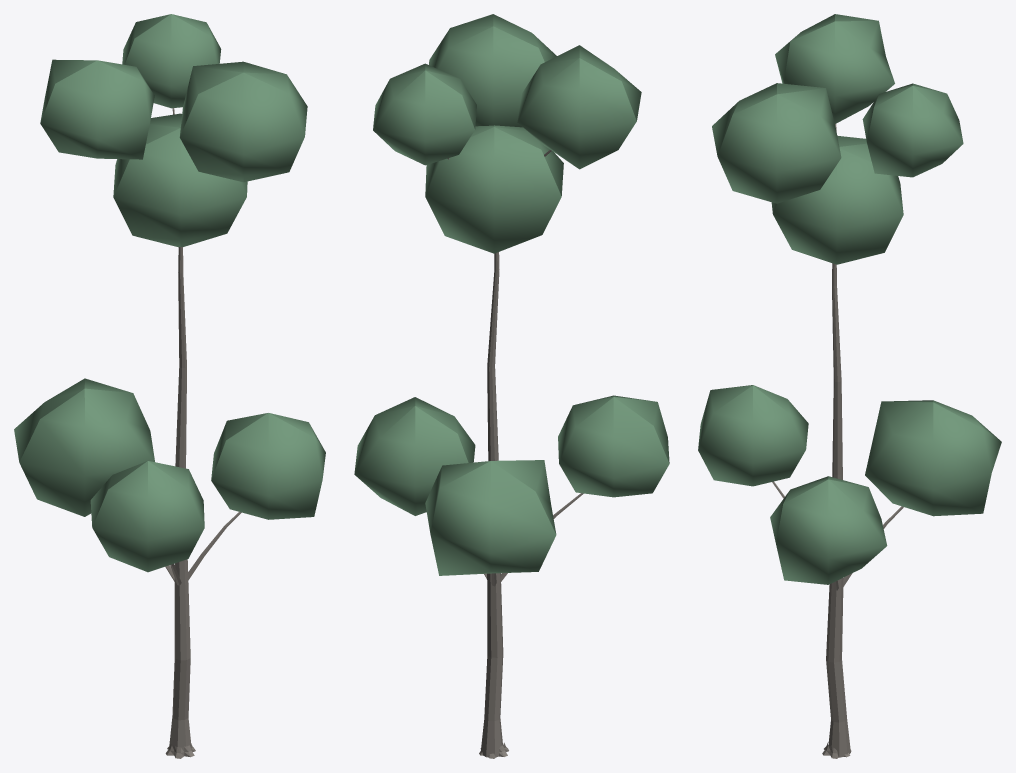
The model's file is dense-temperate-forest-flora-alder-young-d33644eb__28332.glb.
The picture shows the model from 3 angles, left to right: view 1: azimuth 30°, elevation 25°; view 2: azimuth 150°, elevation 25°; view 3: azimuth 270°, elevation 25°; orthographic projection. The views are drawn at different scales.
Visible parts, largest first — view 1: alder-young; view 2: alder-young; view 3: alder-young.
Boxes of the visible parts, x1,y1,x2,y2 form: alder-young: (14,14,325,758); alder-young: (354,14,669,758); alder-young: (698,14,1001,758).
Bounding box in the file's own units: 2.02 × 4.88 × 1.94.
